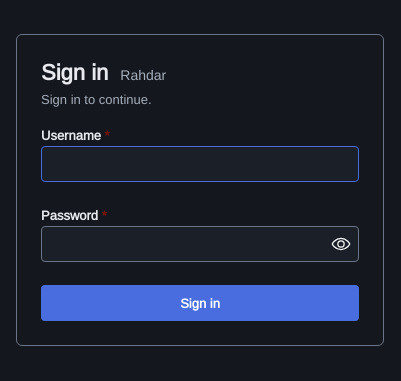
LoginView › says to wait when a sign-in is rate limited, and what to do next
Type "alice" into the field labelled "Username *" at (200, 164), box top-left (41, 146), bottom-right (359, 182)
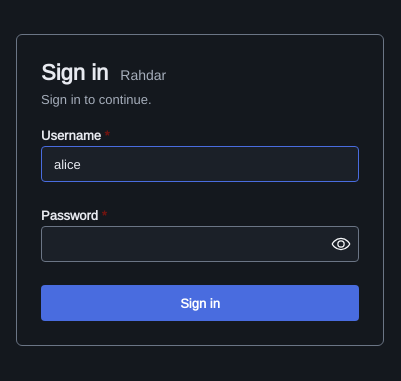
Type "secret123" into the password field labelled "Password *" at (200, 244), box top-left (42, 227), bottom-right (358, 261)
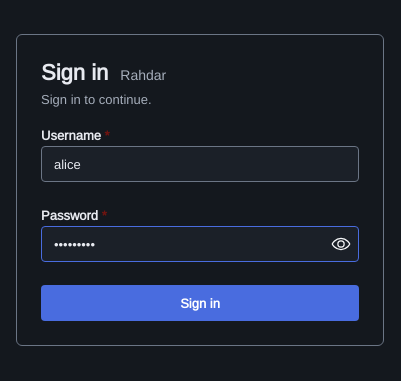
Click the button "Sign in" at (200, 303), box top-left (41, 285), bottom-right (359, 321)
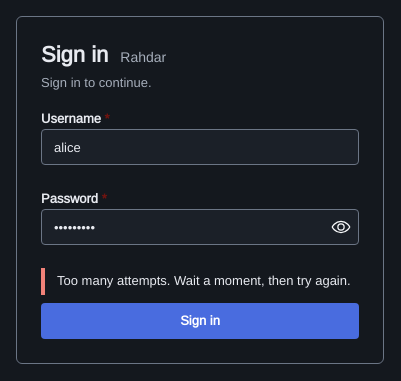
Expected: the message reads "Too many attempts. Wait a moment, then try again.", top-left (57, 272), bottom-right (351, 289)
